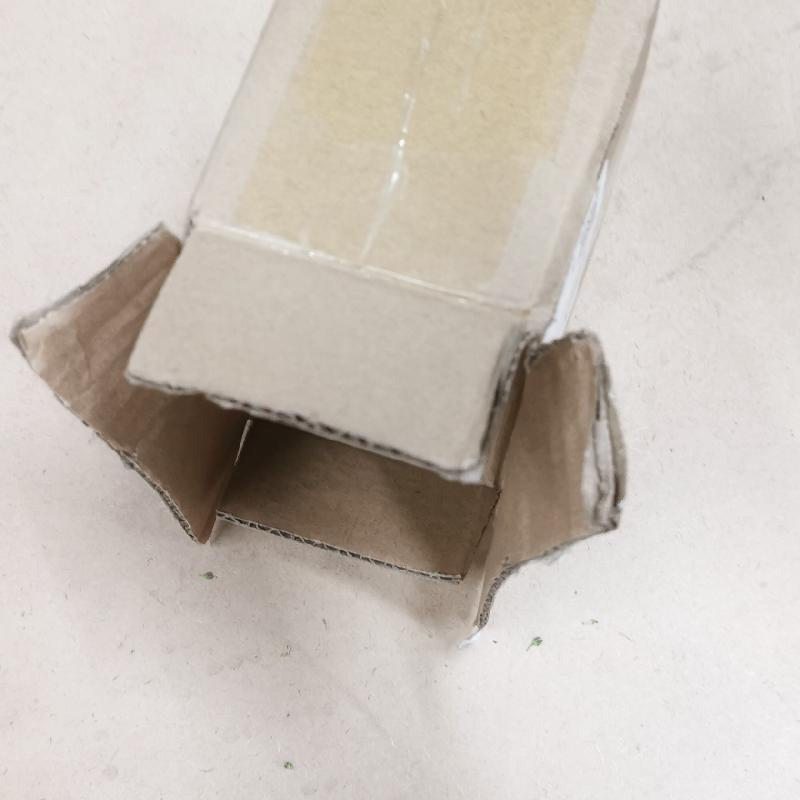boxes: (19, 0, 667, 630)
